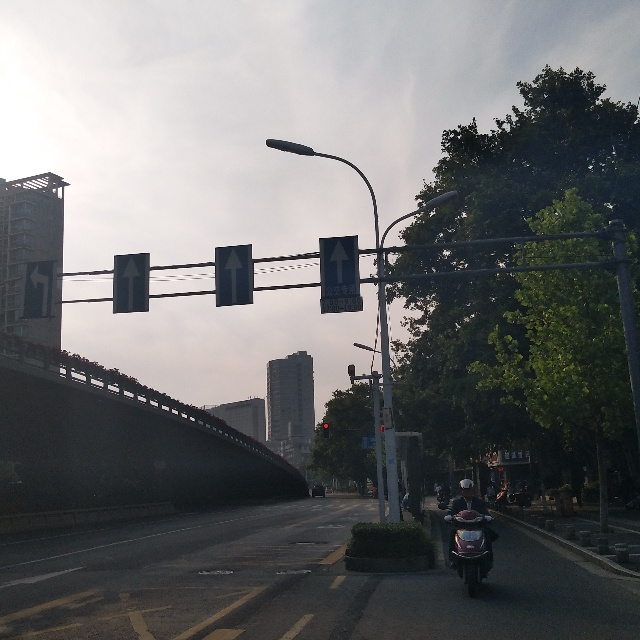left: (24, 263, 56, 318)
straight: (324, 235, 362, 301), (216, 247, 251, 308), (116, 254, 142, 311)
